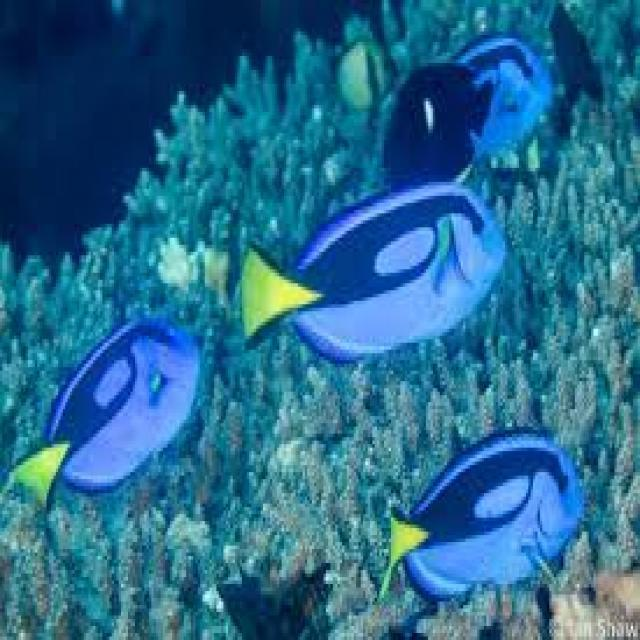TangFish: (236, 182, 507, 362), (0, 313, 204, 523), (374, 425, 582, 600), (450, 4, 611, 148)
